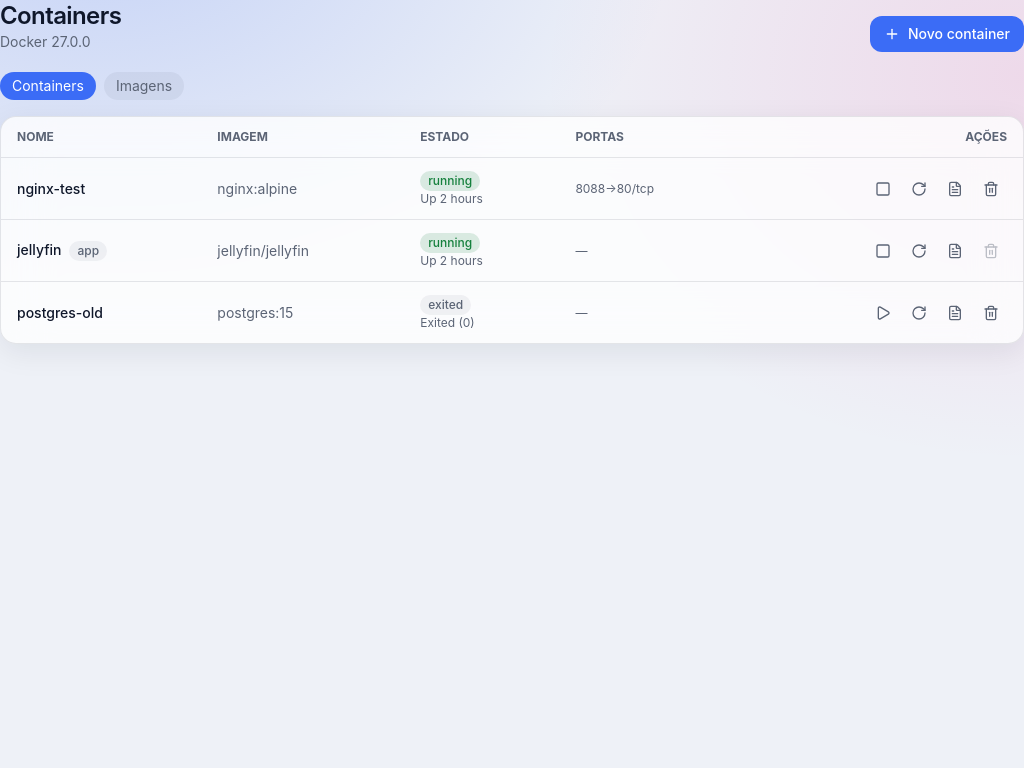
it: Containers page › blocks creating a container with an invalid form
This screenshot has width=1024, height=768.
Click the button "Novo container". click: (947, 34)
box: [870, 16, 1023, 52]
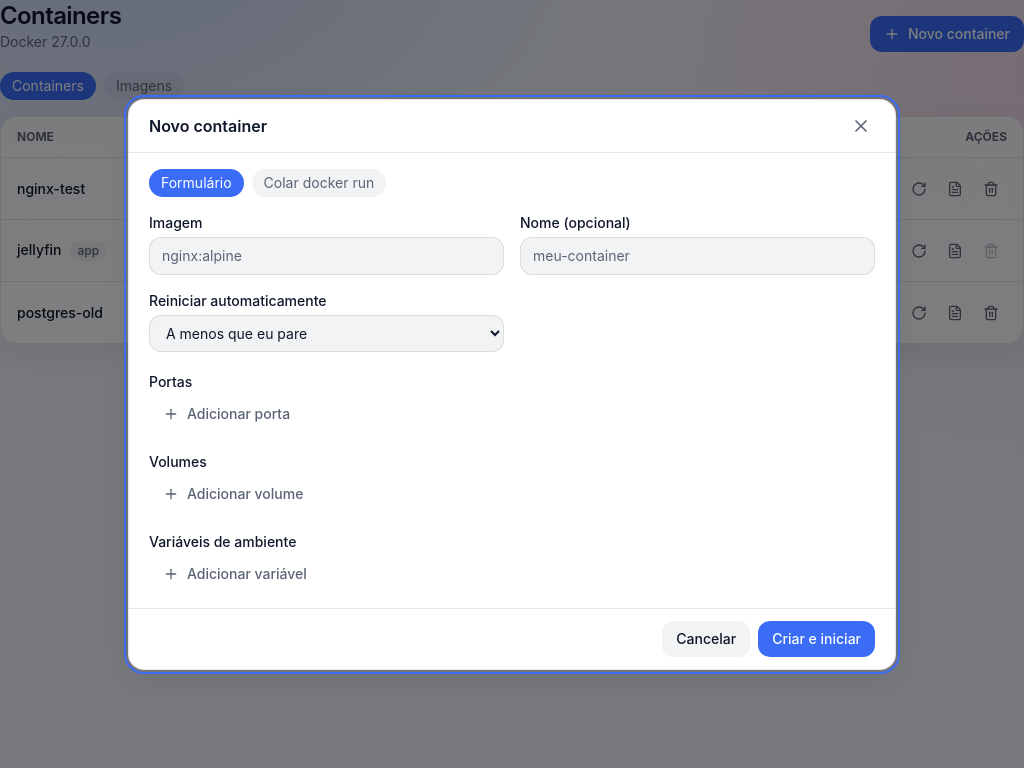
Click the button "Criar e iniciar". click: (817, 638)
box: [758, 620, 875, 656]
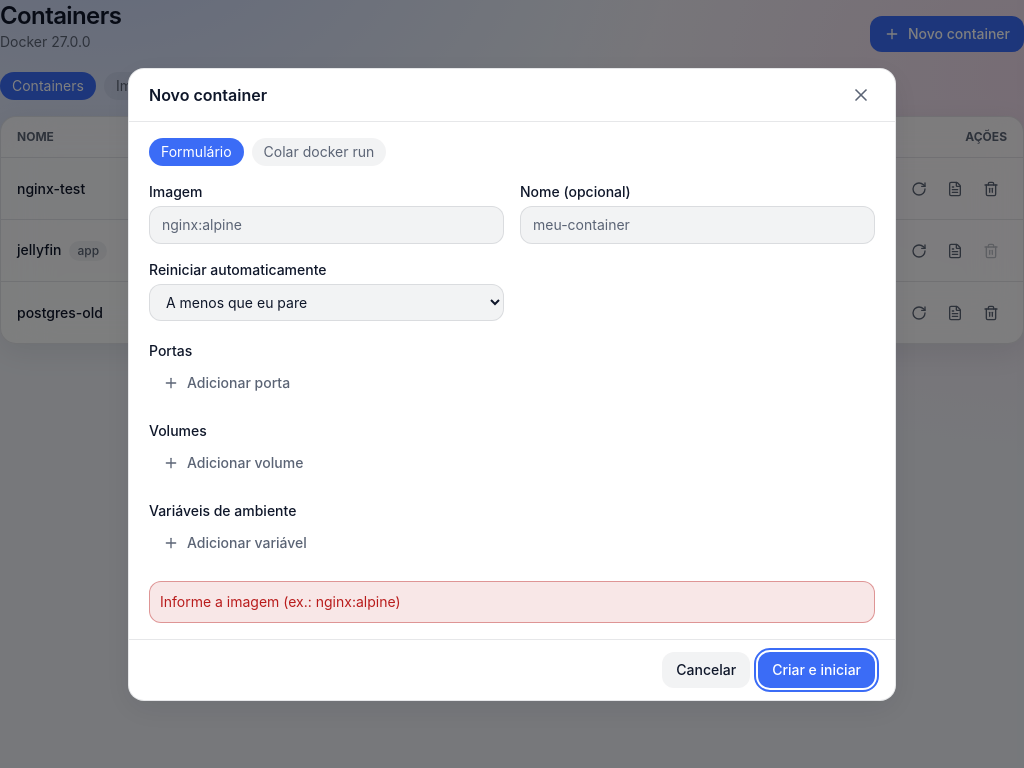
Expected: the message shows "Informe a imagem", [160, 592, 401, 610]
